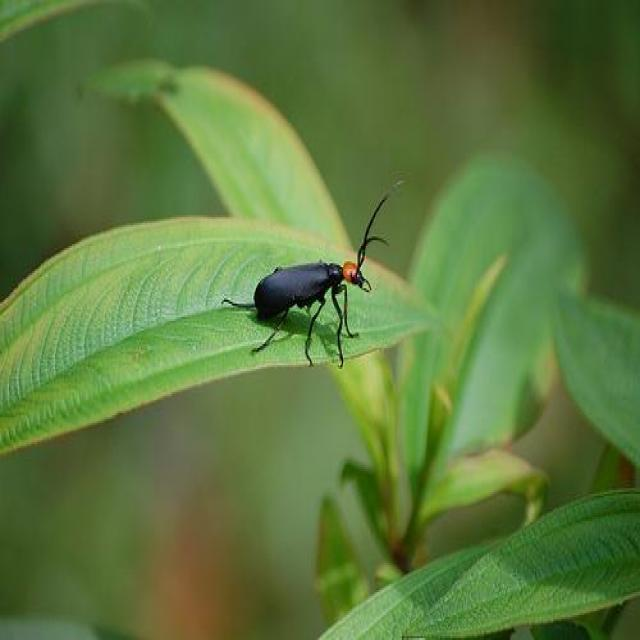BlisterBeetle-Adult-: (237, 175, 412, 362)
